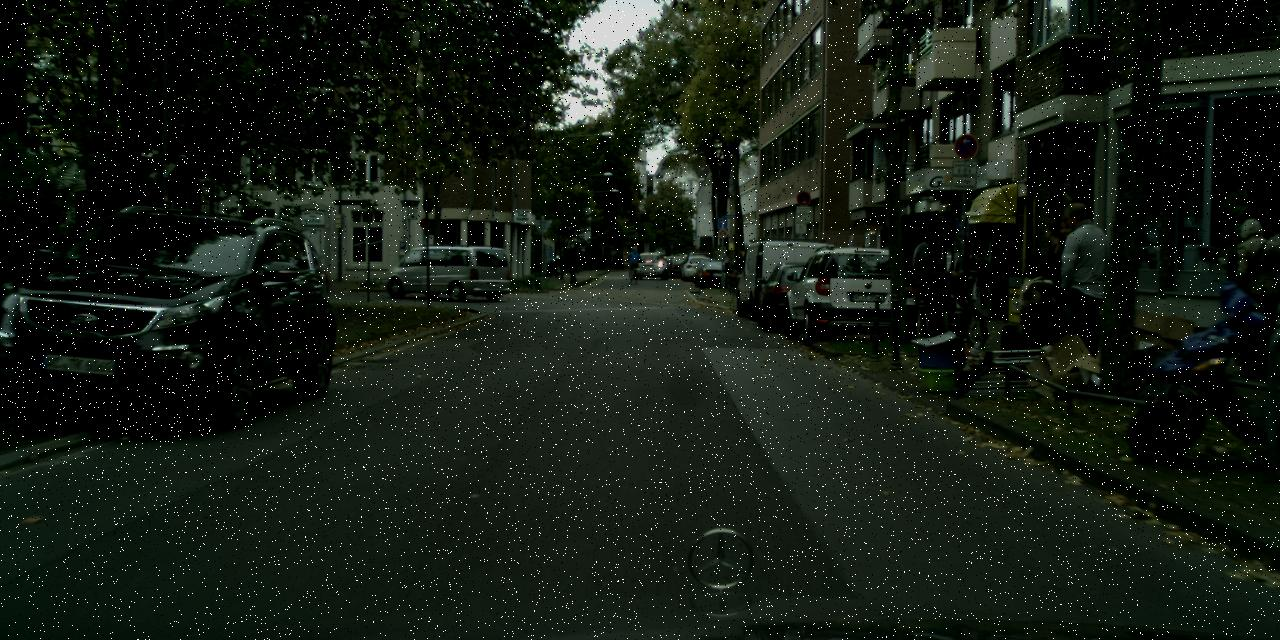ped: (1044, 202, 1116, 377), (1219, 218, 1279, 378), (1037, 215, 1097, 363), (908, 218, 968, 363), (1028, 220, 1084, 357), (952, 247, 977, 310), (564, 248, 579, 282), (628, 246, 640, 278), (734, 253, 746, 283), (547, 260, 559, 278), (724, 255, 734, 274)
